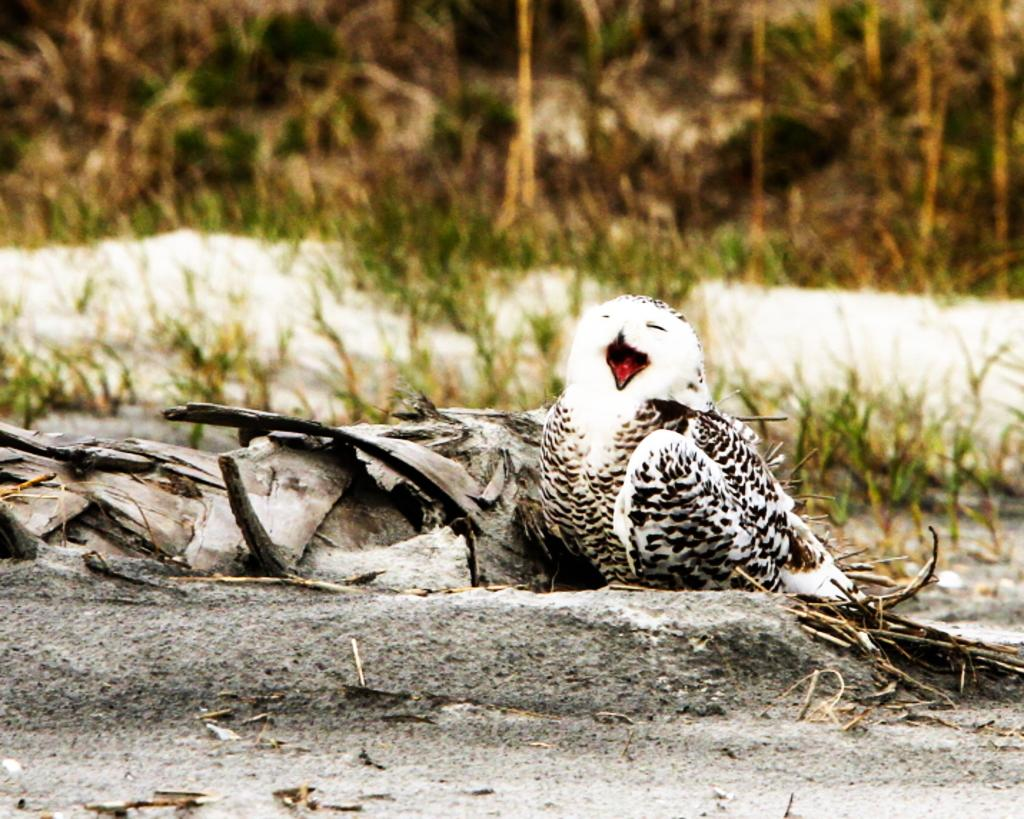Owl: (550, 290, 872, 619)
